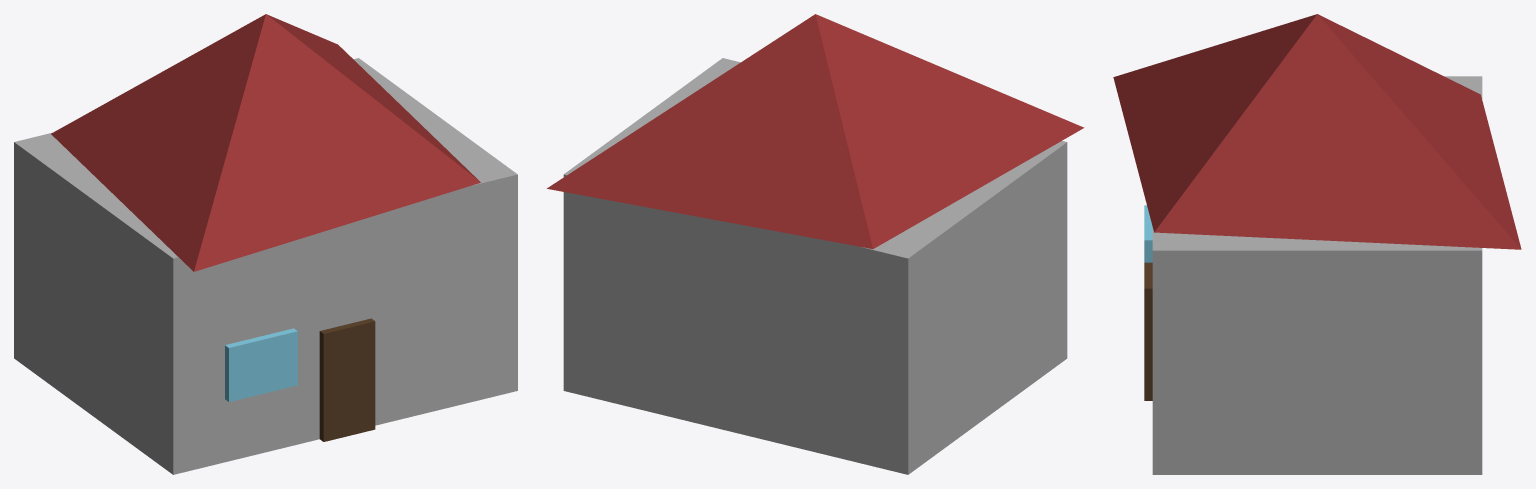
The model's file is House.obj.
3 renders of one model, left to right at view 1: azimuth 30°, elevation 25°; view 2: azimuth 150°, elevation 25°; view 3: azimuth 270°, elevation 25°, orthographic. The views are drawn at different scales.
Visible parts, largest first — view 1: Cube, Cone, Cube.001, Cube.002; view 2: Cube, Cone; view 3: Cube, Cone, Cube.001, Cube.002.
Part boxes in pixels (x1,y1,x2,y2): Cube: (14, 58, 517, 474); Cone: (51, 14, 480, 271); Cube.001: (319, 318, 375, 441); Cube.002: (225, 328, 297, 401); Cube: (563, 58, 1067, 474); Cone: (547, 14, 1084, 248); Cube: (1152, 76, 1482, 474); Cone: (1113, 14, 1521, 249); Cube.001: (1144, 262, 1152, 400); Cube.002: (1144, 205, 1152, 262).
Size of the model in its own units: 10 by 10 by 9.9.
